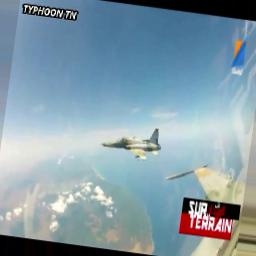Airplane: (101, 128, 163, 160)
